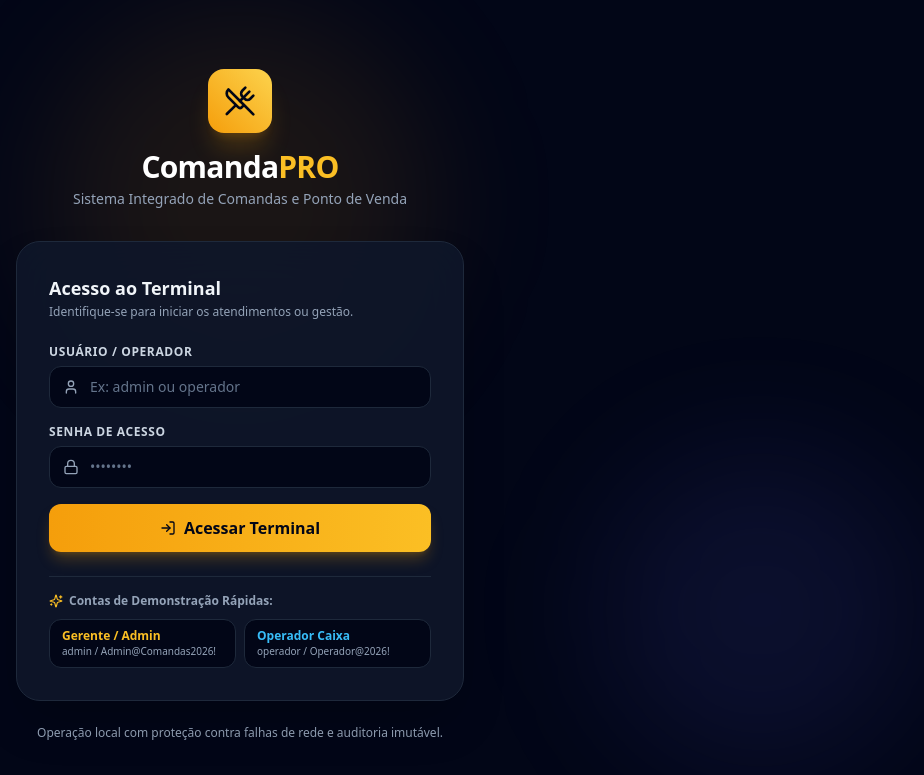
Scenario: LoginPage Component › fills inputs when quick demo buttons are clicked
Click the text "Gerente / Admin" at point(111, 636), box [62, 627, 161, 644]
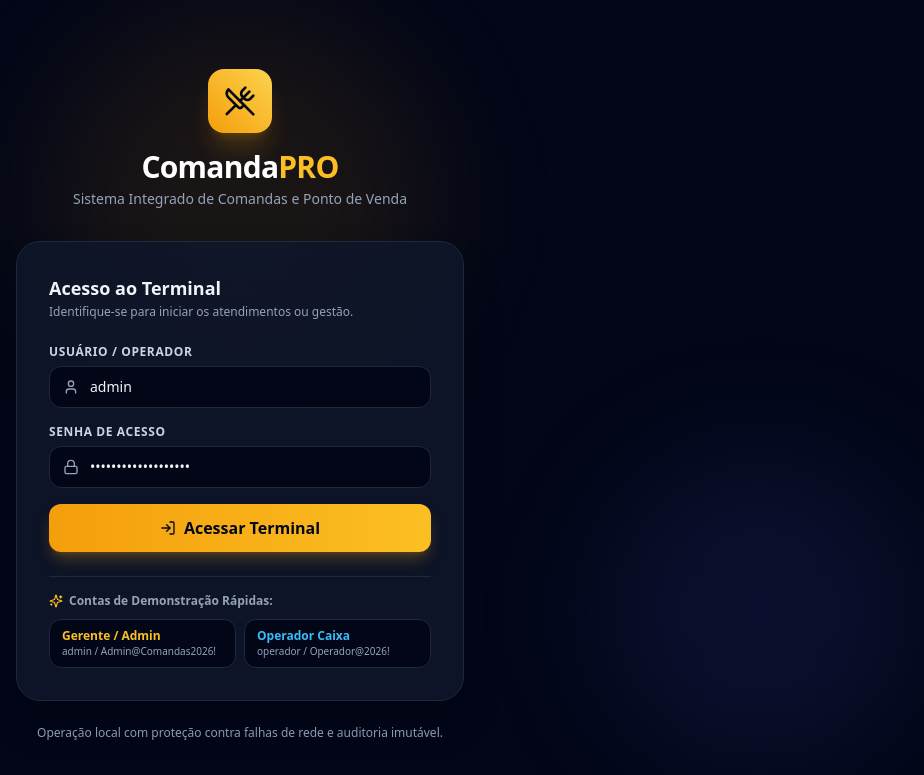
Result: the field with placeholder "Ex: admin ou operador" holds "admin" at [49, 366, 431, 408]
Result: the password field with placeholder "••••••••" holds "Admin@Comandas2026!" at [49, 446, 431, 488]
